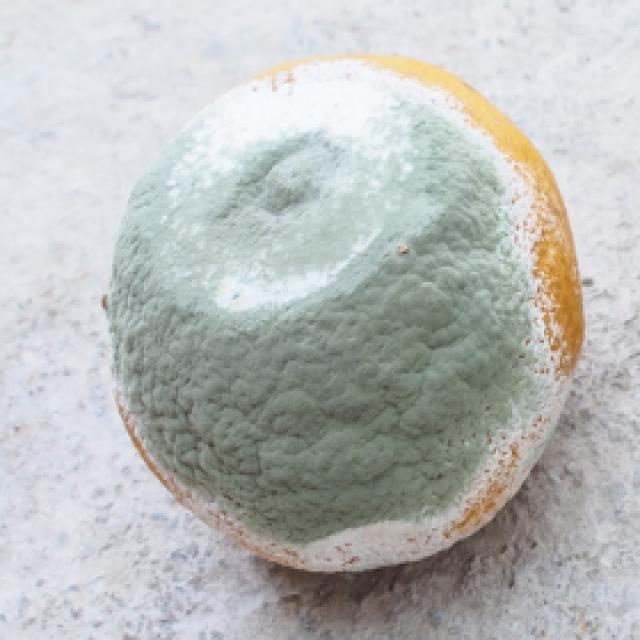sangat-busuk: (104, 55, 583, 571)
